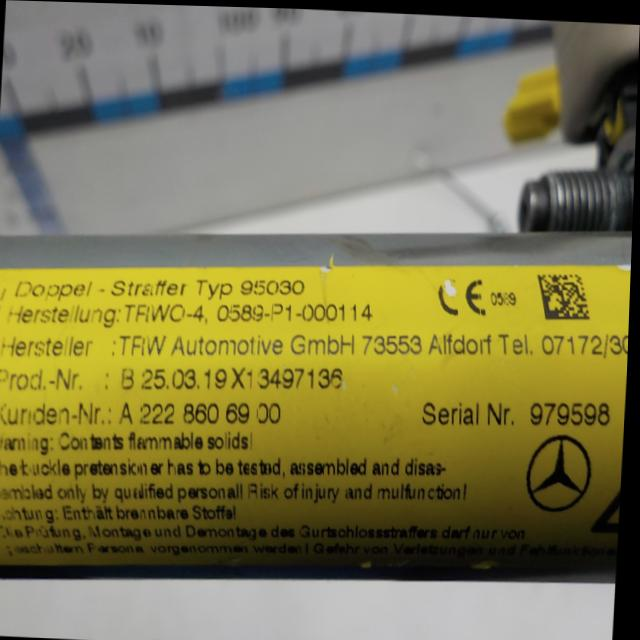datamatrix: (538, 270, 594, 318)
